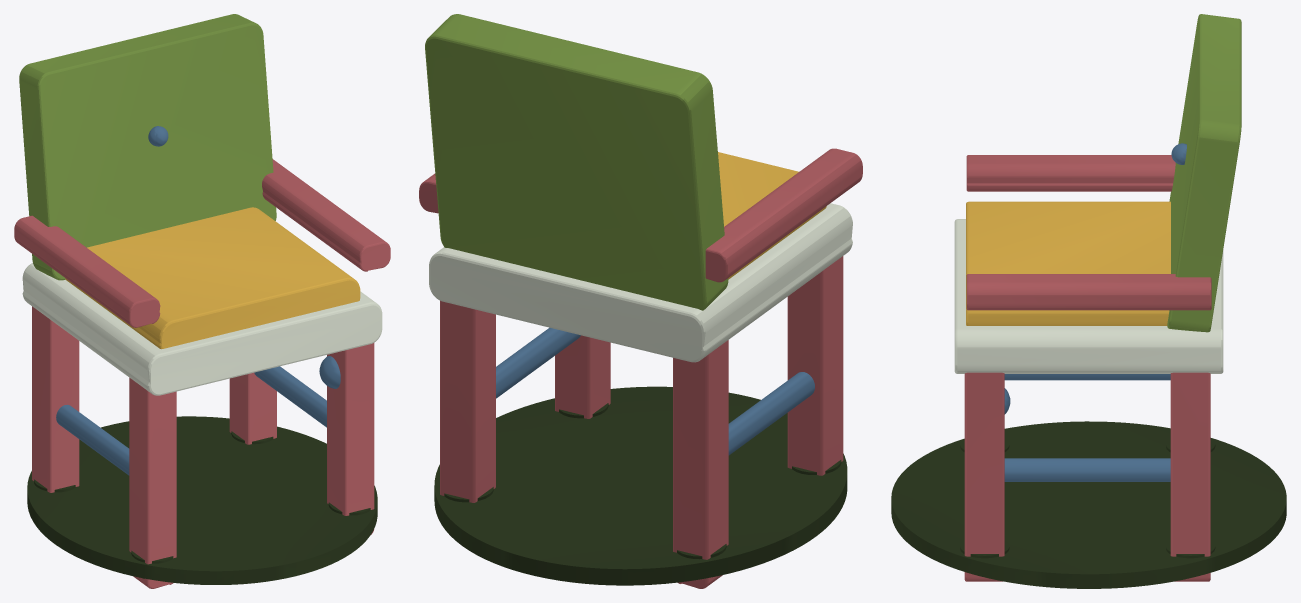
Rendered from 1344_城市运转图鉴_输电线路塔.glb.
3 renders of one model, left to right at view 1: azimuth 30°, elevation 25°; view 2: azimuth 150°, elevation 25°; view 3: azimuth 270°, elevation 25°, orthographic. The views are drawn at different scales.
Parts seen in each view (by area): view 1: card_1344; view 2: card_1344; view 3: card_1344.
Part boxes in pixels (box(x1,y1,x2,y2)): card_1344: box(14, 14, 390, 588); card_1344: box(419, 14, 862, 588); card_1344: box(891, 14, 1286, 588).
Bounding box in the file's own units: 0.7142 × 1 × 0.7809.
